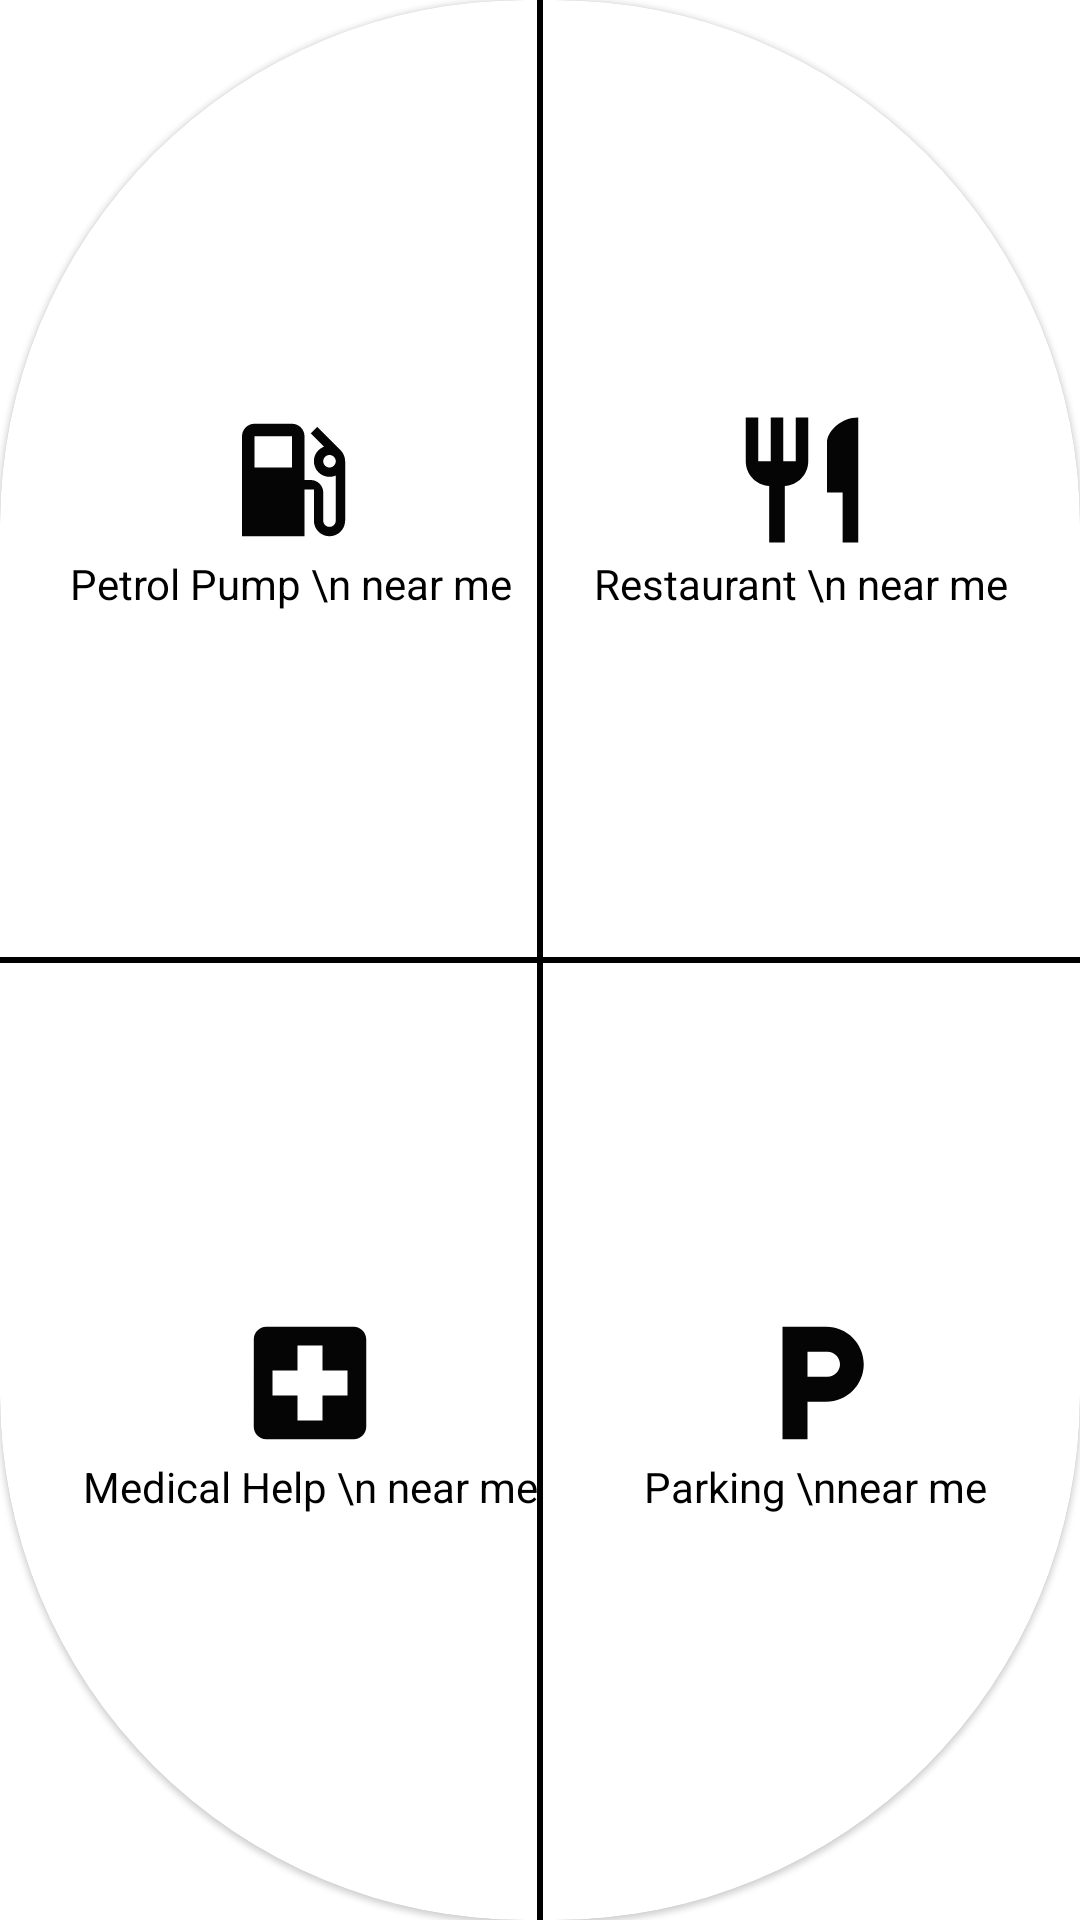

Named icons in this screenshot (1080px×1920px) and their bounding boxes, (x1, y1, x2, y2):
local hospital: (253, 1326, 367, 1440)
